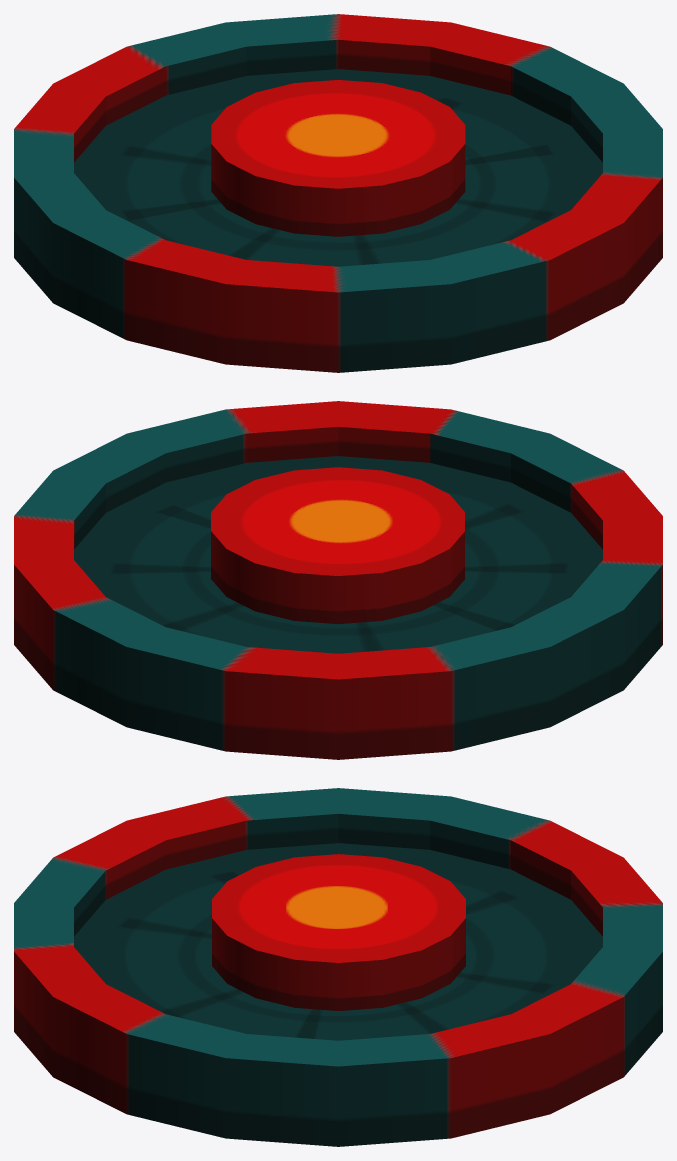
The model's file is items_bomb.FBX.
3 views of the same model, one above another, from view 1: azimuth 30°, elevation 25°; view 2: azimuth 150°, elevation 25°; view 3: azimuth 270°, elevation 25° (orthographic).
Visible parts, largest first — view 1: items_bomb; view 2: items_bomb; view 3: items_bomb.
Part boxes in pixels (left/top/right/bottom): items_bomb: left=14, top=14, right=662, bottom=372; items_bomb: left=14, top=401, right=662, bottom=759; items_bomb: left=14, top=788, right=662, bottom=1146.
Size of the model in its own units: 65.24 by 10.83 by 64.25.
